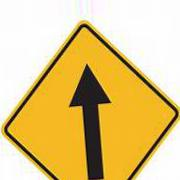right: (54, 49, 122, 180)
